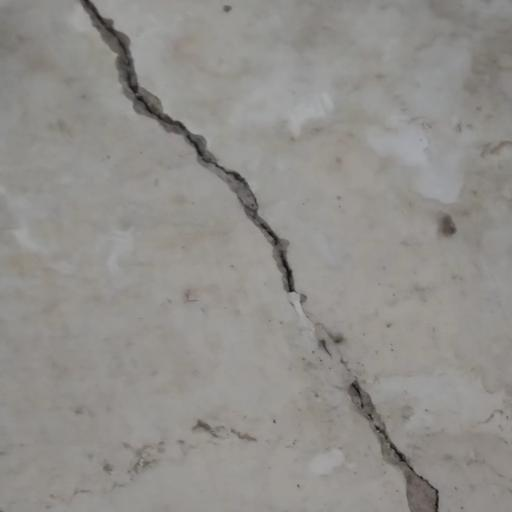major_crack: (73, 0, 442, 512)
